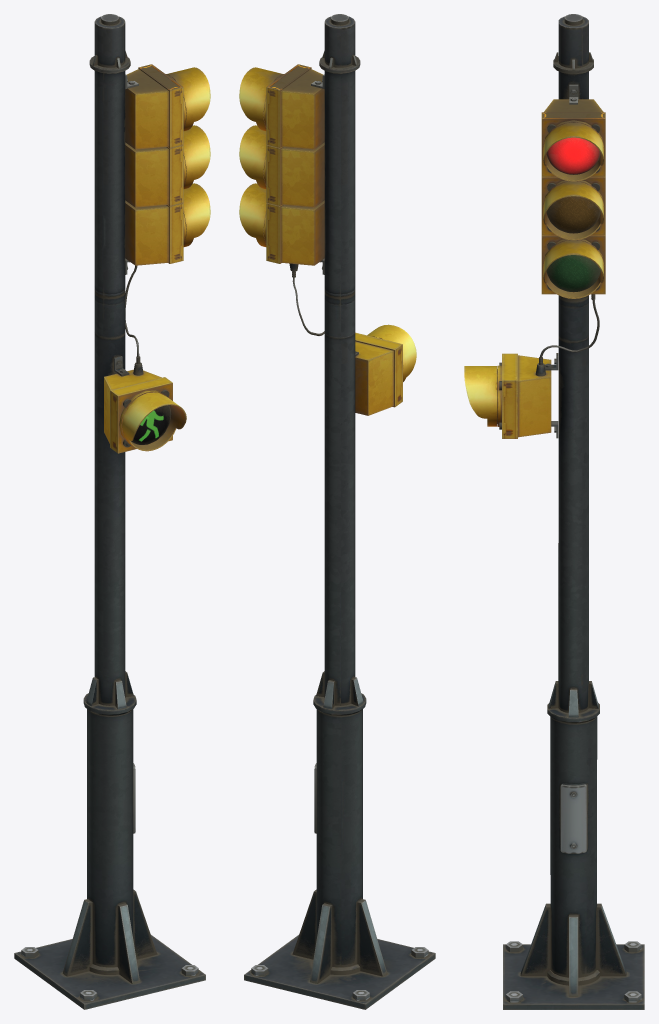
The model's file is lowQualtiy.glb.
3 views of the same model, side by side, from view 1: azimuth 30°, elevation 25°; view 2: azimuth 150°, elevation 25°; view 3: azimuth 270°, elevation 25° (orthographic).
Visible parts, largest first — view 1: Cylinder.008, LightCube.003, Plane.004, LightCube.004__0, Cylinder.010, Cylinder.012, Cylinder.014; view 2: Cylinder.008, LightCube.003, Plane.004, LightCube.004__0, Cylinder.010, Cylinder.012, Cylinder.014; view 3: Cylinder.008, LightCube.003, LightCube.004__0, Plane.004, LightCube.005, Cylinder.012, Cylinder.013, Cylinder.010, Cylinder.014.
Part boxes in pixels (<box>): Cylinder.008: <box>83,14,136,974</box>; LightCube.003: <box>125,64,210,265</box>; Plane.004: <box>14,935,205,1009</box>; LightCube.004__0: <box>104,369,186,453</box>; Cylinder.010: <box>63,889,157,976</box>; Cylinder.012: <box>117,903,139,983</box>; Cylinder.014: <box>21,947,198,1000</box>; Cylinder.008: <box>313,14,366,974</box>; LightCube.003: <box>239,64,324,265</box>; Plane.004: <box>244,935,435,1009</box>; LightCube.004__0: <box>355,324,416,415</box>; Cylinder.010: <box>292,889,386,976</box>; Cylinder.012: <box>310,903,332,983</box>; Cylinder.014: <box>251,947,428,1000</box>; Cylinder.008: <box>547,14,600,985</box>; LightCube.003: <box>541,99,605,298</box>; LightCube.004__0: <box>464,353,551,438</box>; Plane.004: <box>503,944,644,1009</box>; LightCube.005: <box>546,137,600,291</box>; Cylinder.012: <box>520,903,626,976</box>; Cylinder.013: <box>560,784,586,853</box>; Cylinder.010: <box>569,915,578,996</box>; Cylinder.014: <box>505,941,641,1002</box>.
Size of the model in its own units: 0.7502 by 4.53 by 0.7693.
1 material, 1 textured.
